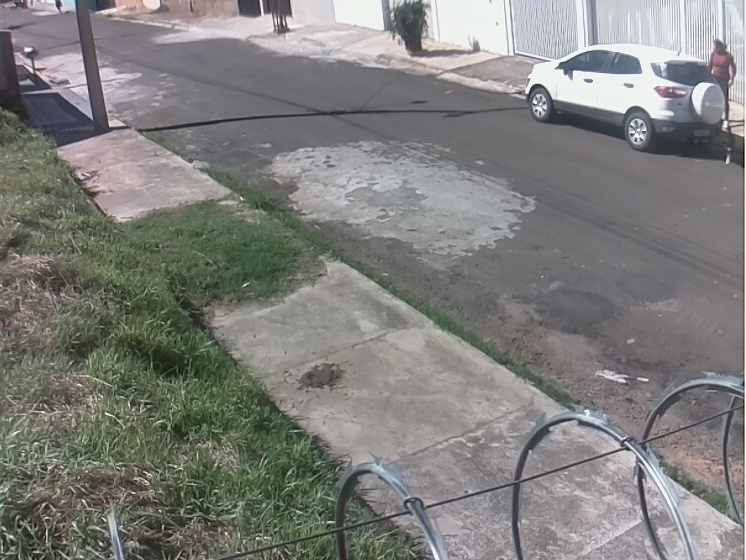person: (708, 39, 738, 123)
